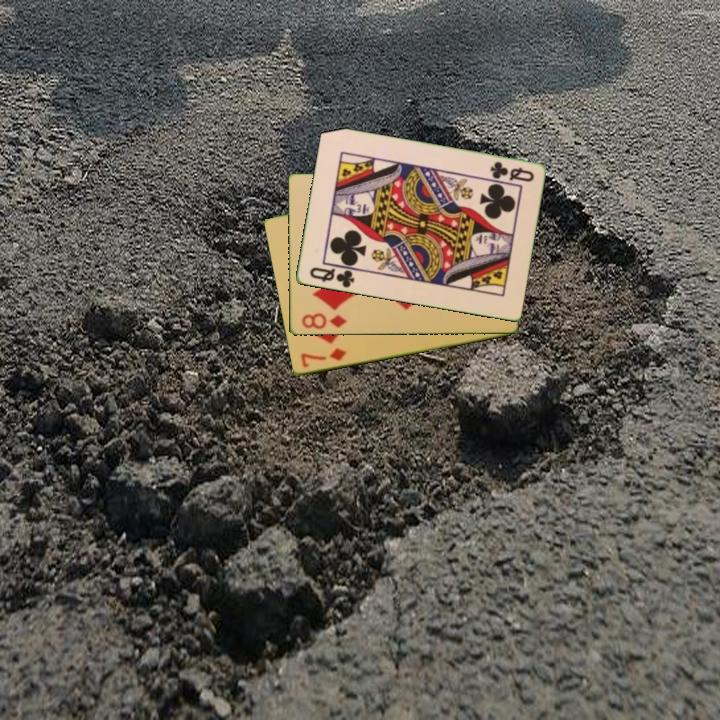7d: (297, 345, 349, 371)
8d: (298, 310, 349, 332)
Qc: (306, 264, 357, 291), (486, 158, 537, 185)
